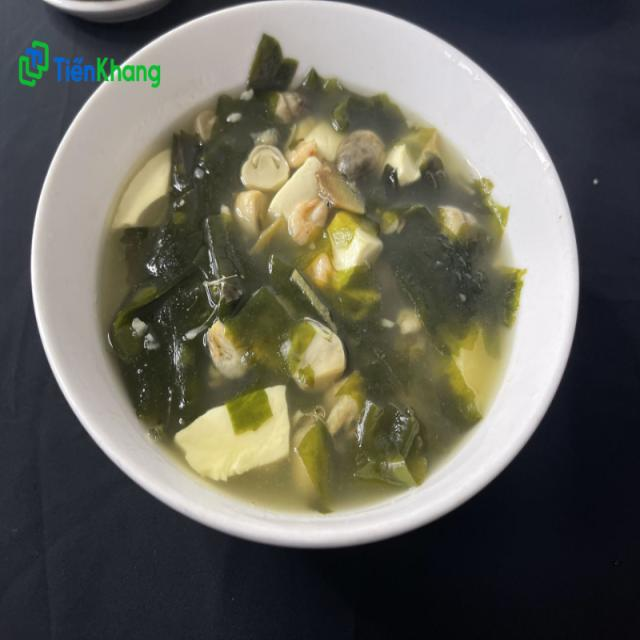canh rong bien: (96, 39, 530, 524)
